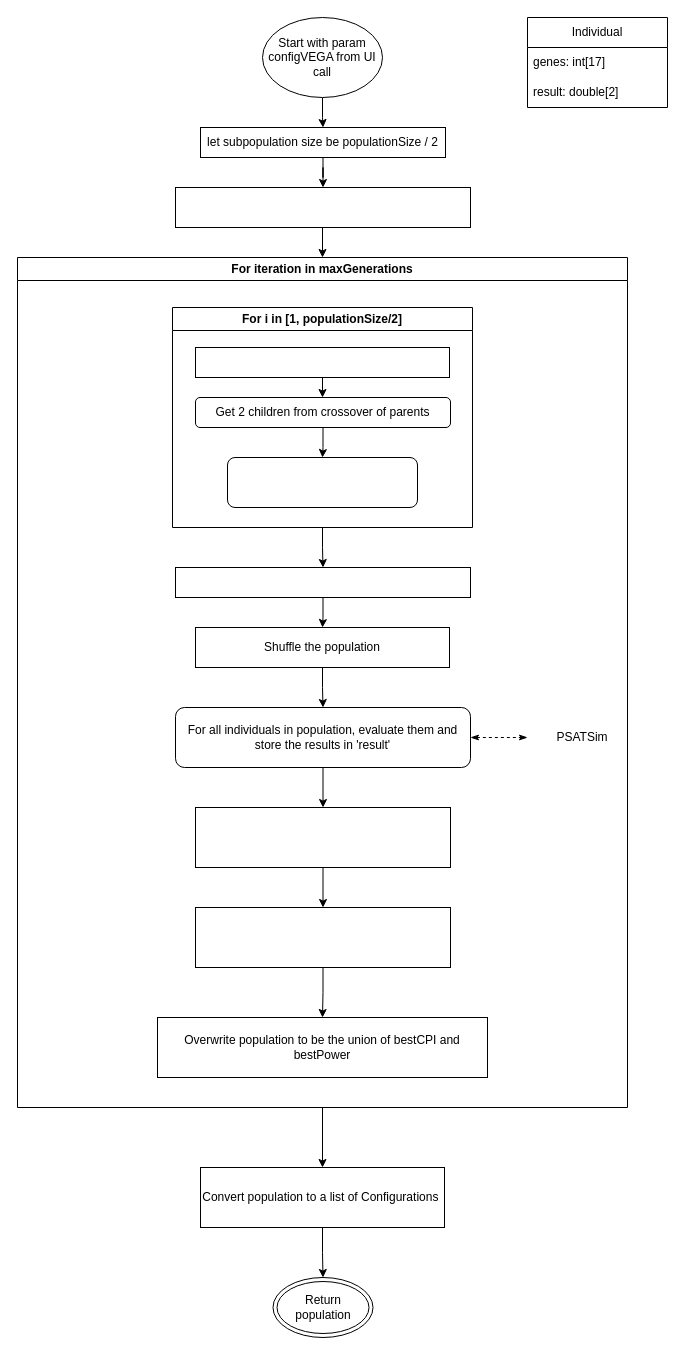
Some shapes in this 685 by 1355 pixel diagram are drawn without their labels. Here are the shapes that lost their labels. From the top down, the box of each, then its label:
(174, 186, 470, 228): Init the population with populationSize random valid individuals
(194, 346, 450, 378): Select 2 random parents from population
(226, 456, 418, 508): Try applying mutations on both children
(174, 566, 470, 598): Add the previously found children to the population
(194, 806, 450, 868): Let bestCPI be a list of best 'subPopulationSize' elements at CPI objective
(194, 906, 450, 968): Let bestPower be a list of best 'subPopulationSize' elements at Power objective
